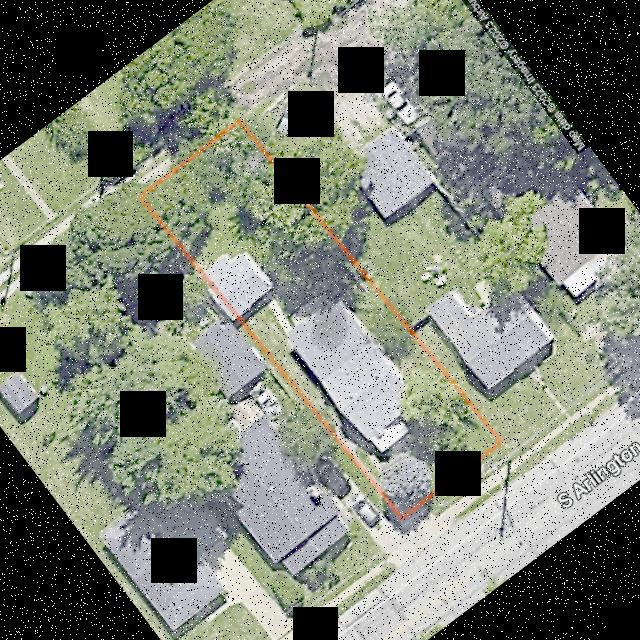Driveway: (268, 300, 293, 336), (367, 456, 384, 479), (399, 500, 418, 515)
Extra Driveway: (400, 506, 435, 535)
Extra Lawn: (423, 444, 515, 517)
House: (289, 295, 421, 453)
Other: (205, 253, 272, 316)
Sidewalk: (262, 290, 410, 459), (285, 291, 331, 329)
